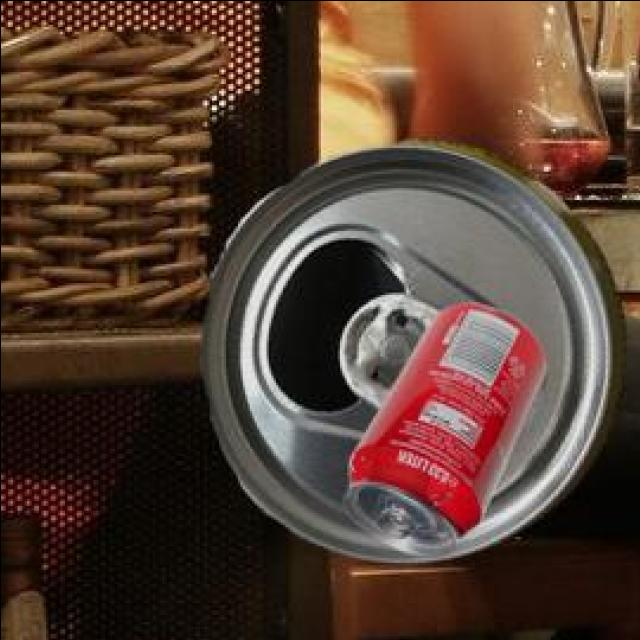logam: (196, 134, 622, 558), (340, 300, 542, 553)
